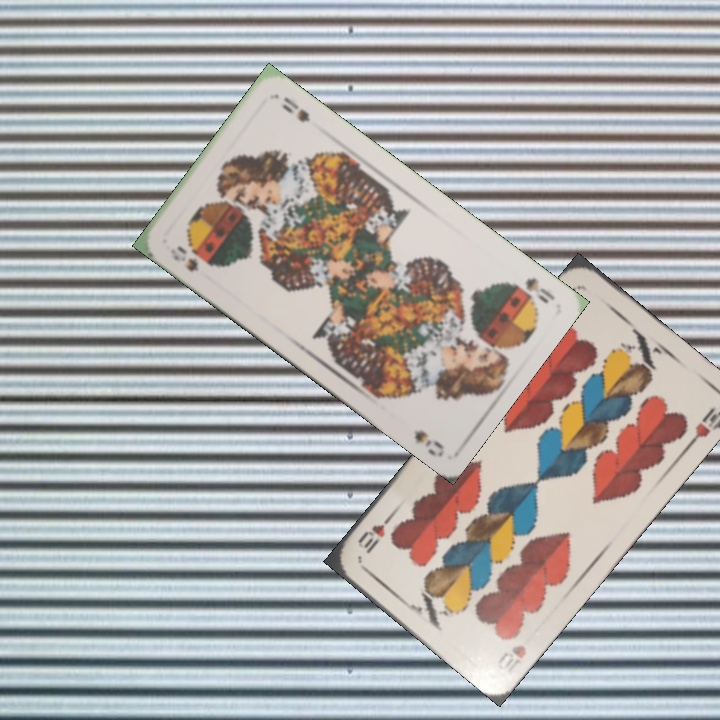H10: (492, 640, 529, 675)
SO: (521, 272, 558, 307), (166, 241, 201, 274)
